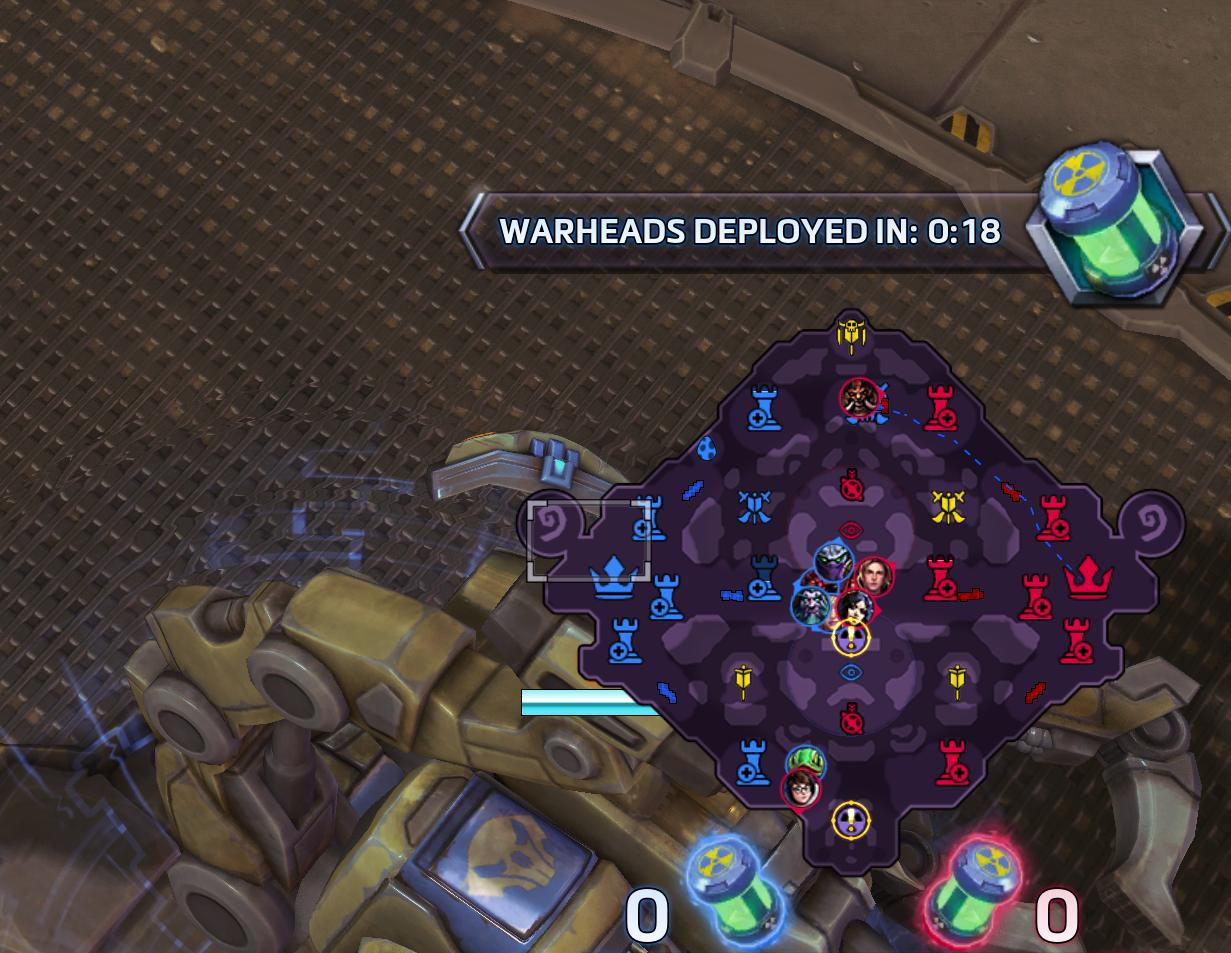blue player: (809, 538, 856, 583), (787, 586, 831, 628), (784, 744, 829, 783)
red player: (835, 586, 886, 633), (838, 376, 886, 423), (850, 556, 895, 602), (780, 769, 822, 813)
